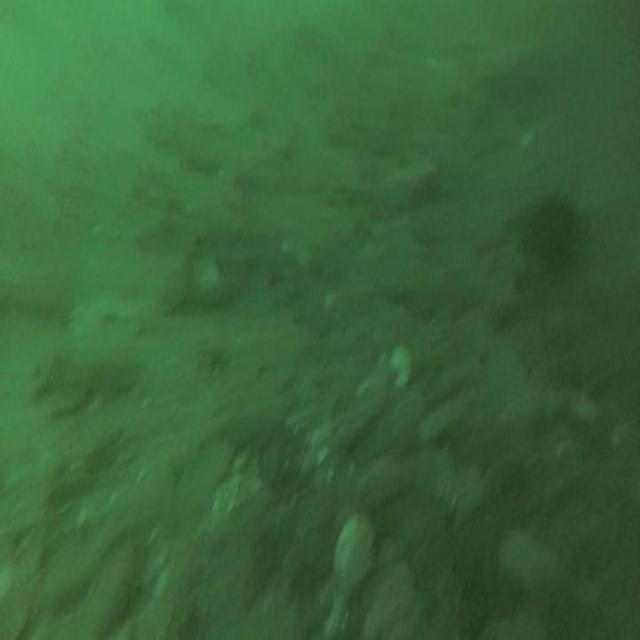echinus: (533, 198, 575, 268)
scallop: (333, 514, 375, 594)
